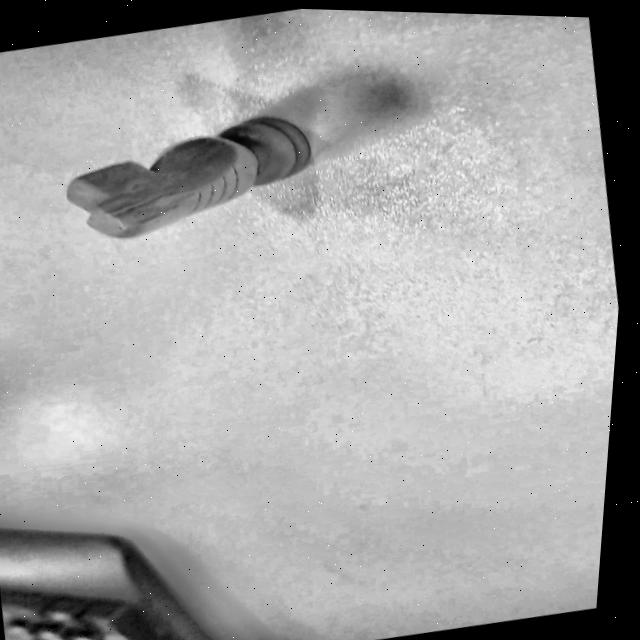white-knight: (66, 115, 309, 236)
